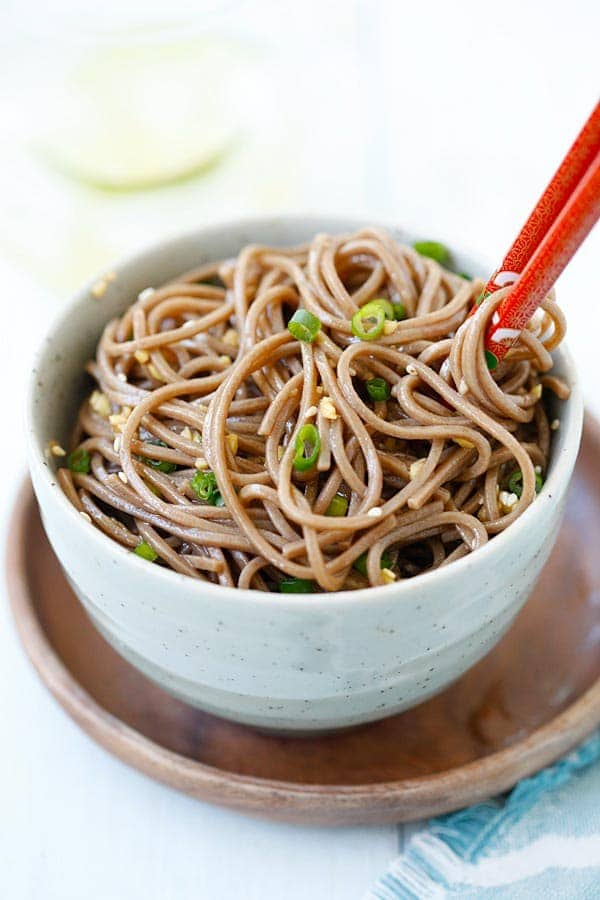Soba: (63, 222, 566, 584)
